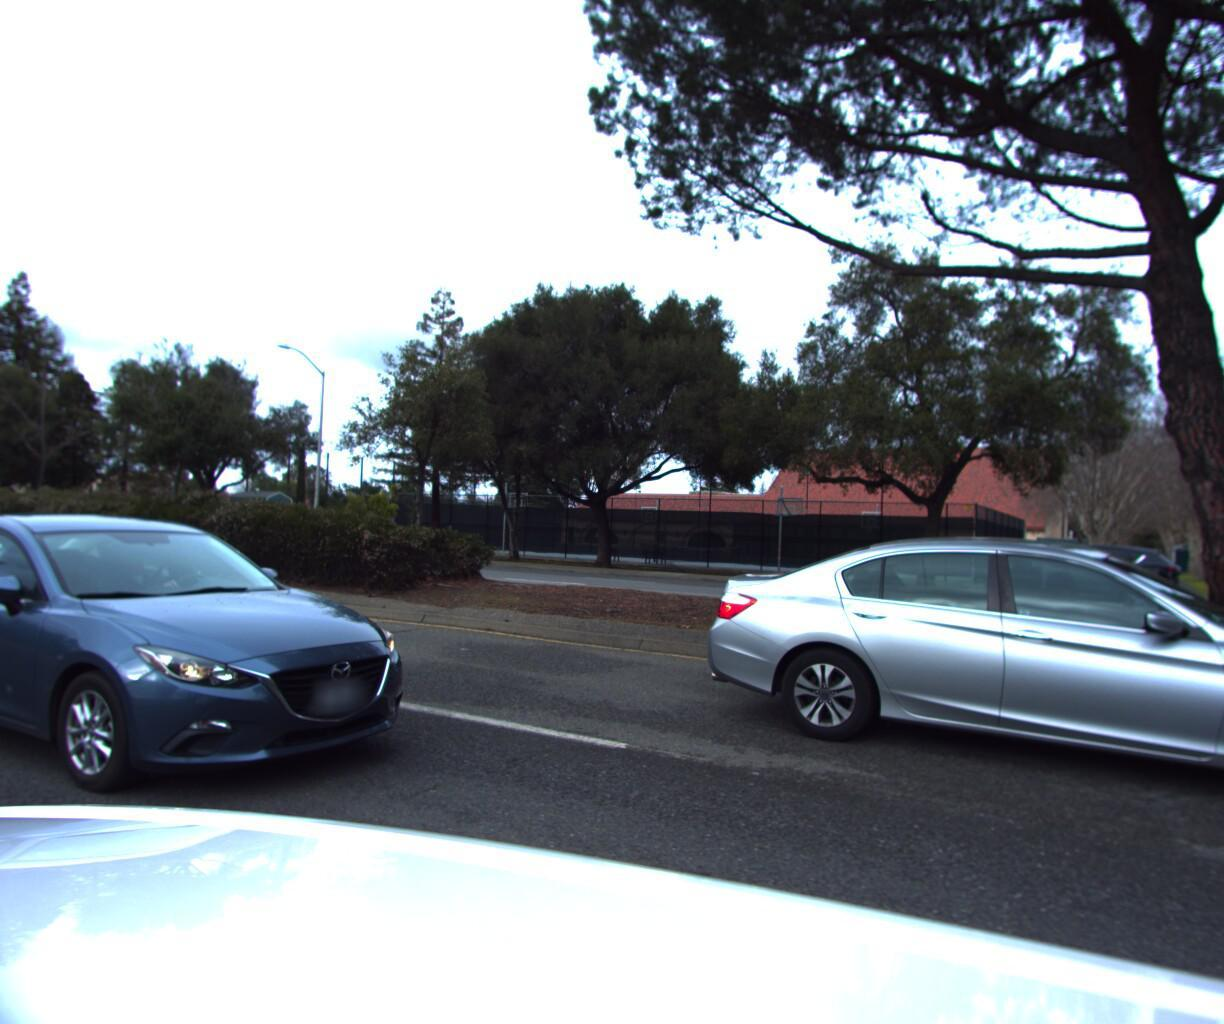car: (676, 491, 1224, 859), (0, 503, 451, 850), (969, 534, 1190, 617), (0, 490, 4, 601)
